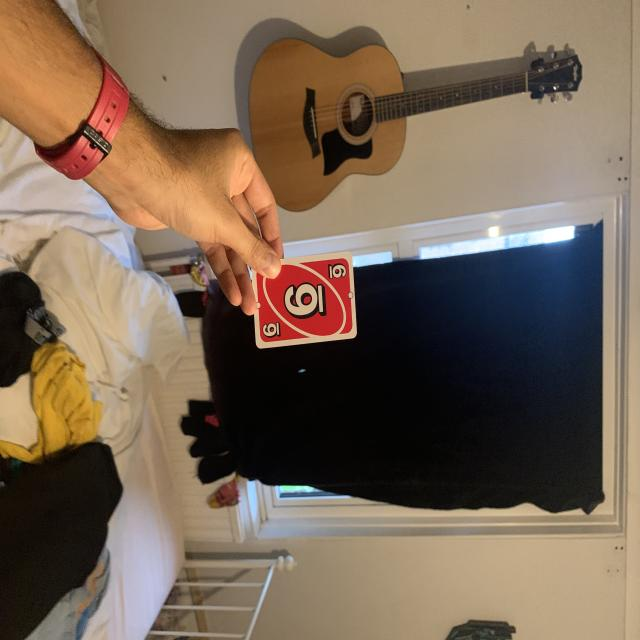lred-6: (324, 258, 348, 283)
